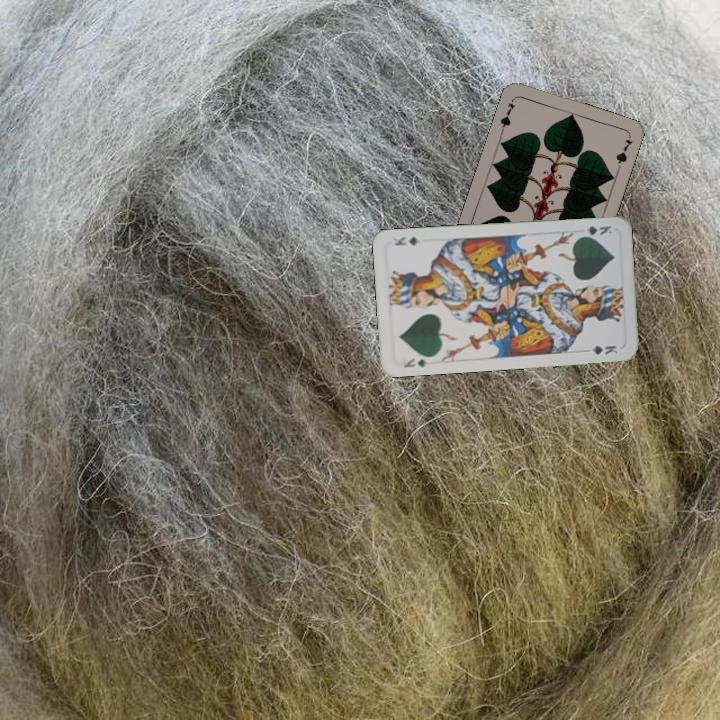G7: (496, 94, 518, 134)
GK: (575, 222, 614, 240), (399, 354, 432, 370)
